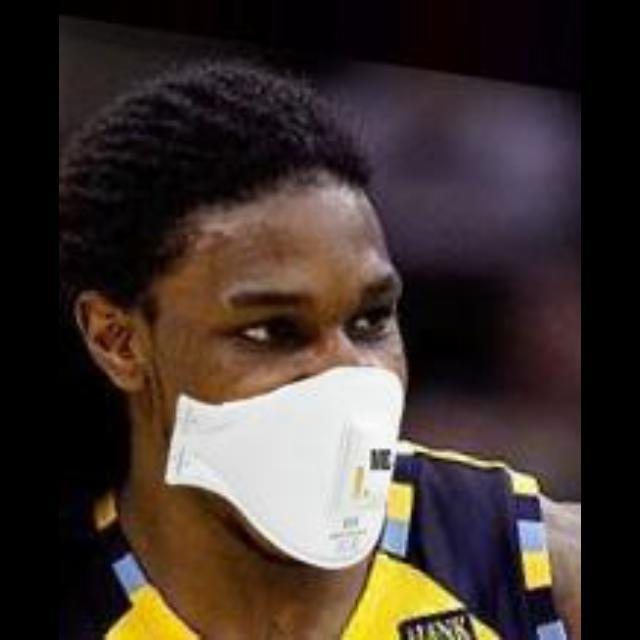suspicion: (94, 76, 418, 568)
